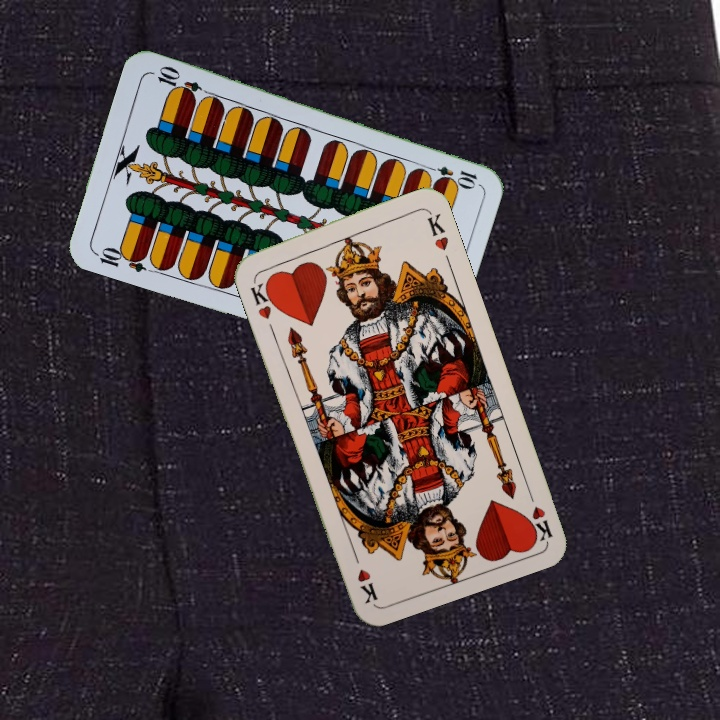E10: (90, 243, 149, 275), (421, 161, 480, 189)
HK: (521, 484, 556, 544), (246, 272, 281, 322)
